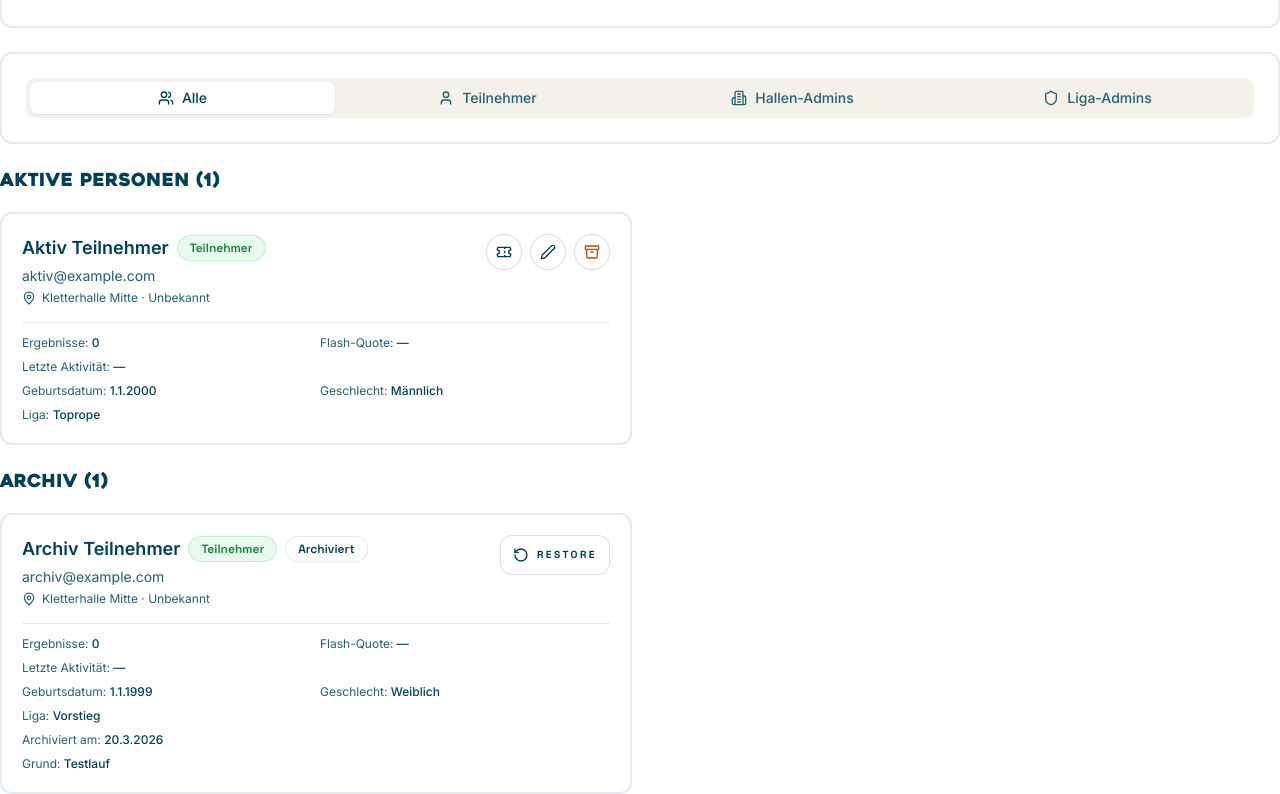
Scenario: LeagueParticipants › restores archived participants from the archive section
Later steps or results of the test are not shown.
(page scrolled)
Expected: the heading "Archiv (1)" is shown, [0,469,108,497]
Click the button with aria-label "archiv@example.com wiederherstellen" at (555, 555), box [500,535,610,575]
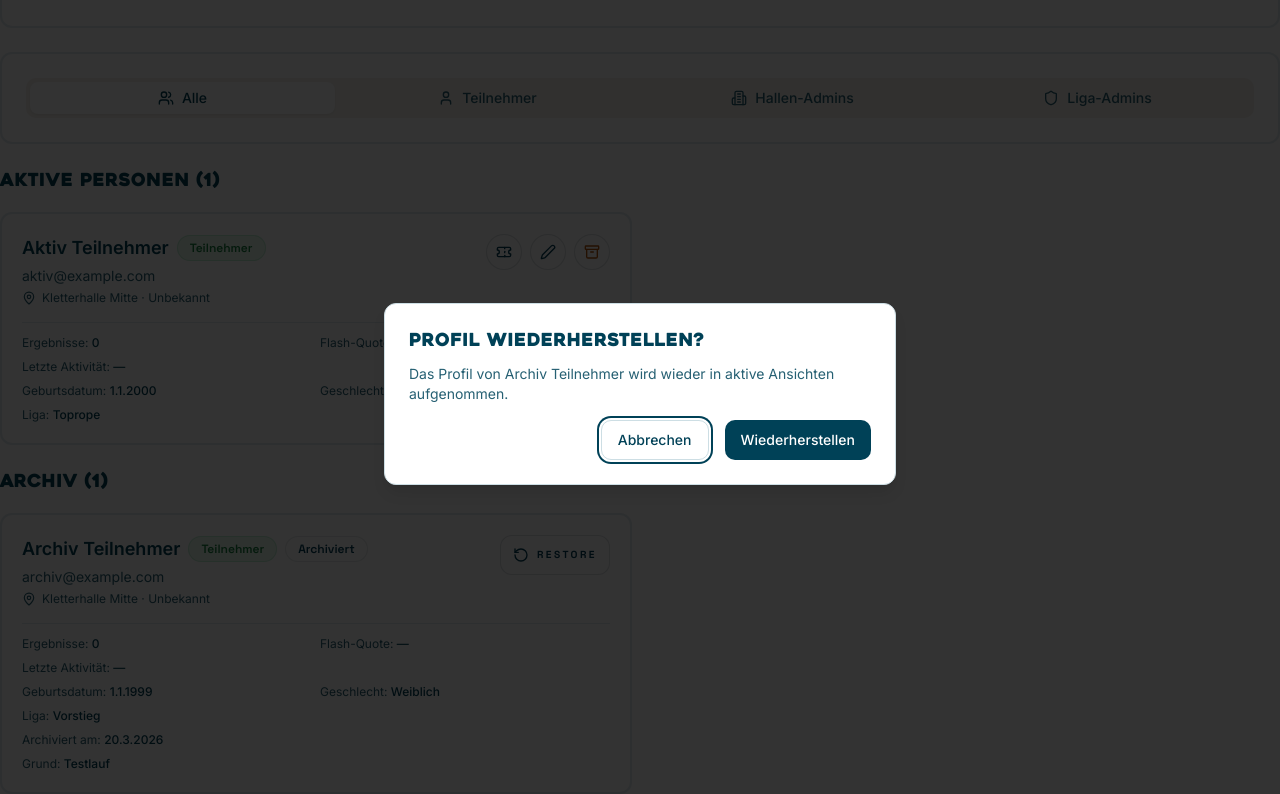
Expected: the heading "Profil wiederherstellen?" is shown, [409,332,705,351]
